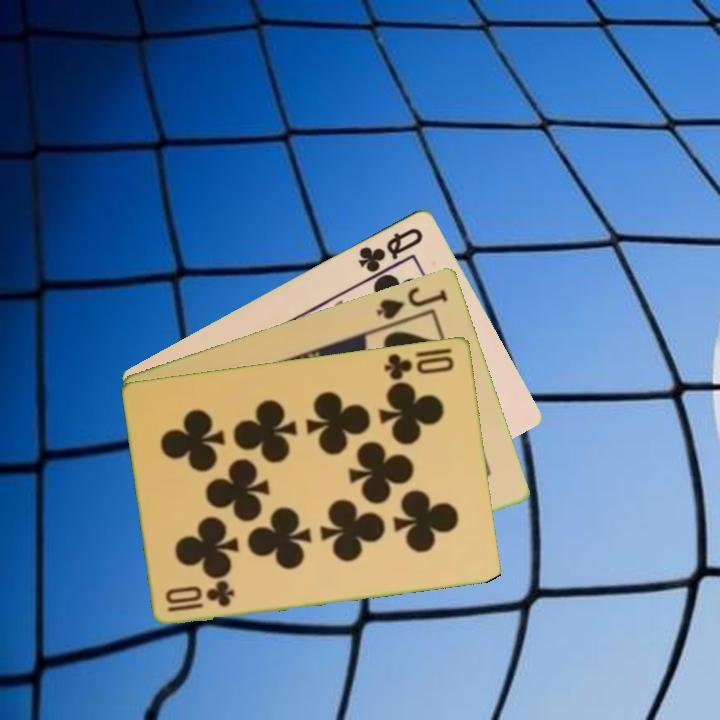10c: (164, 579, 238, 614), (381, 349, 457, 383)
Js: (372, 283, 451, 322)
Qc: (354, 223, 426, 275)
